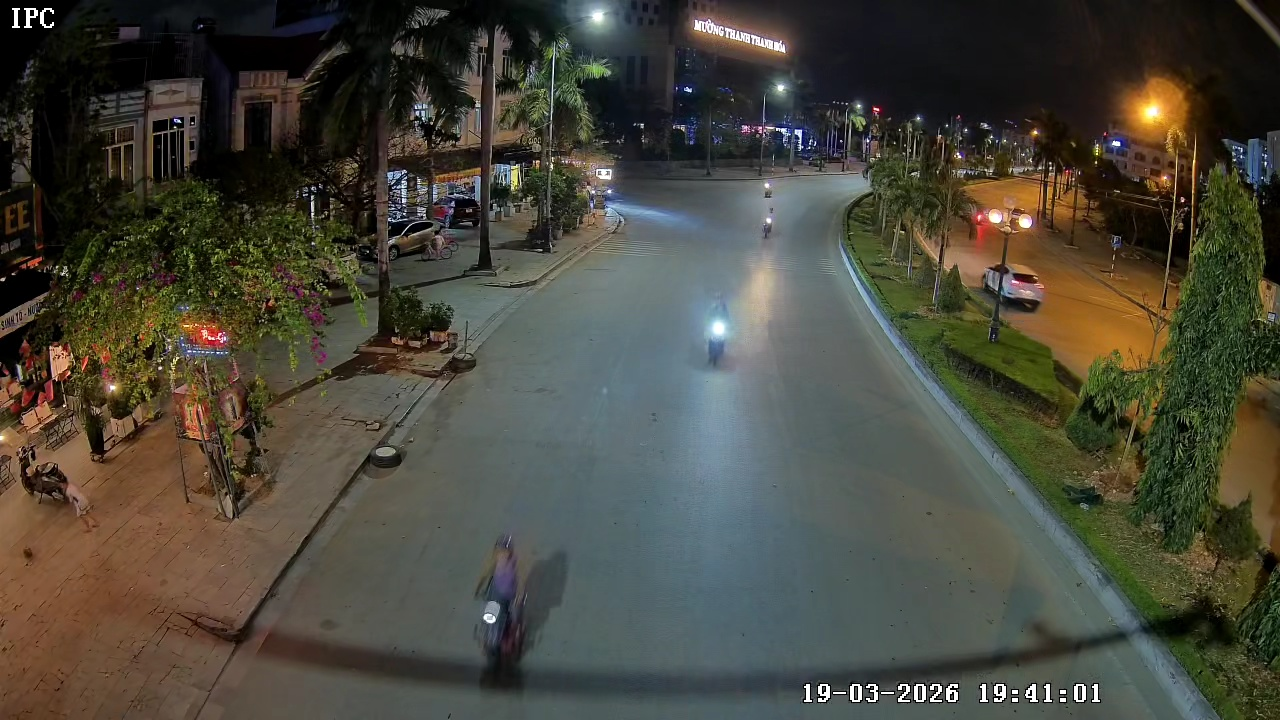motorbike: (470, 530, 571, 691), (701, 296, 735, 369), (759, 193, 779, 240)
